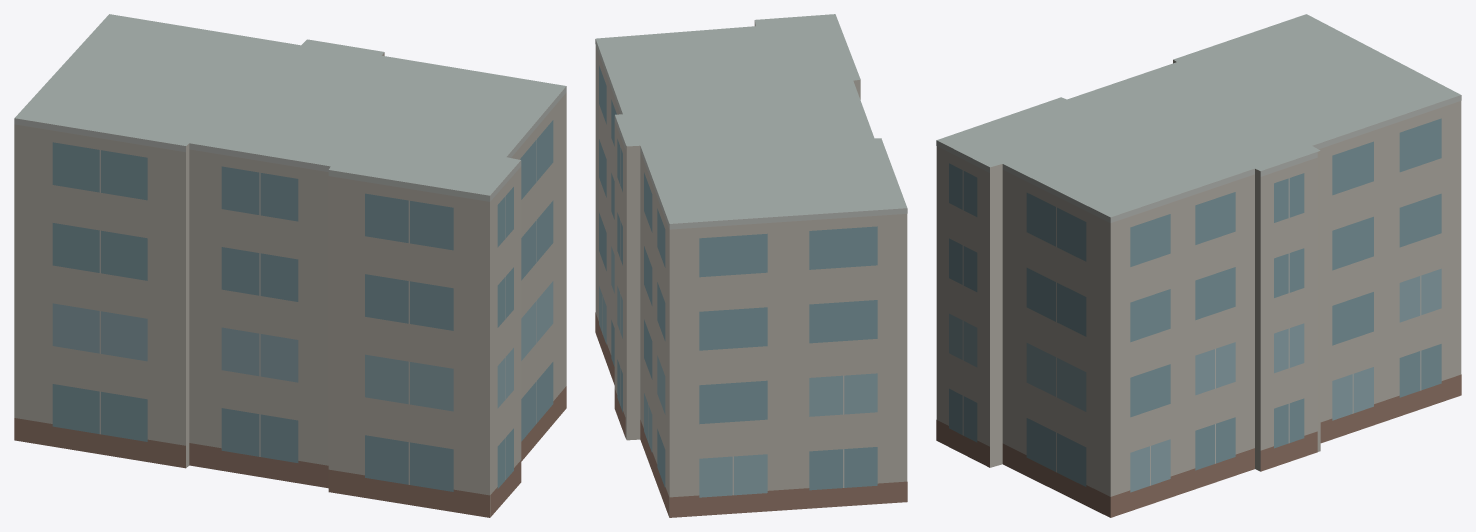
File: survey-upis-32777035.glb
3 views of the same model, side by side, from view 1: azimuth 30°, elevation 25°; view 2: azimuth 150°, elevation 25°; view 3: azimuth 270°, elevation 25° (orthographic). The views are drawn at different scales.
Visible parts, largest first — view 1: survey-upis-32777035.tmp; view 2: survey-upis-32777035.tmp; view 3: survey-upis-32777035.tmp.
Boxes of the visible parts, x1,y1,x2,y2 form: survey-upis-32777035.tmp: (14,14,566,517); survey-upis-32777035.tmp: (595,14,907,517); survey-upis-32777035.tmp: (936,14,1461,517).
Size of the model in its own units: 18.6 by 12.8 by 20.27.
